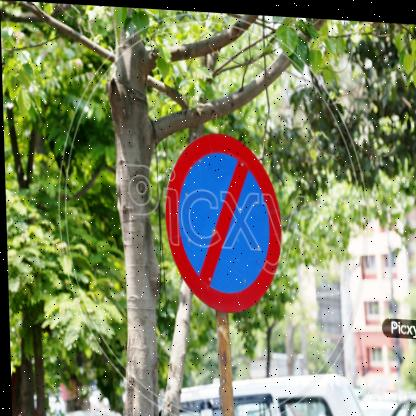No parking: (158, 126, 288, 314)
